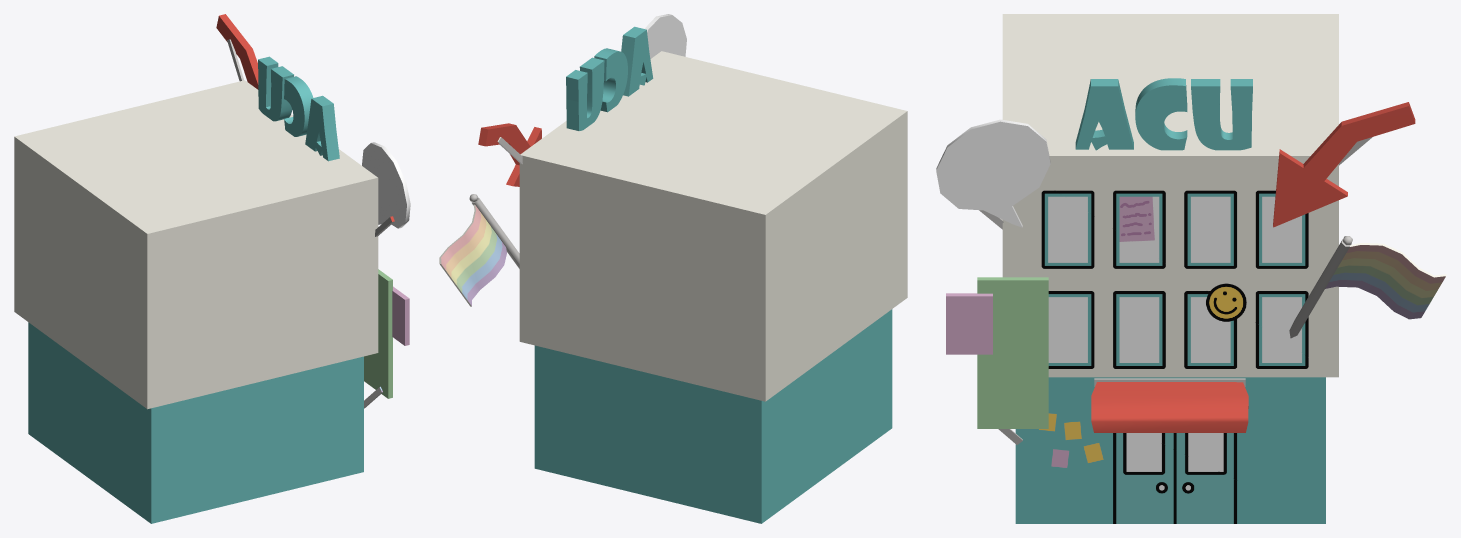
Rendered from ACUAsset.fbx.
The picture shows the model from 3 angles, left to right: view 1: azimuth 30°, elevation 25°; view 2: azimuth 150°, elevation 25°; view 3: azimuth 270°, elevation 25°; orthographic projection. The views are drawn at different scales.
Visible parts, largest first — view 1: ACUAsset; view 2: ACUAsset; view 3: ACUAsset.
Boxes of the visible parts, left/top/right/bottom form: ACUAsset: left=14, top=14, right=410, bottom=523; ACUAsset: left=439, top=14, right=907, bottom=523; ACUAsset: left=936, top=14, right=1446, bottom=523.
Bounding box in the file's own units: 341 × 414 × 437.
Materials: 1 (1 with a texture image).
